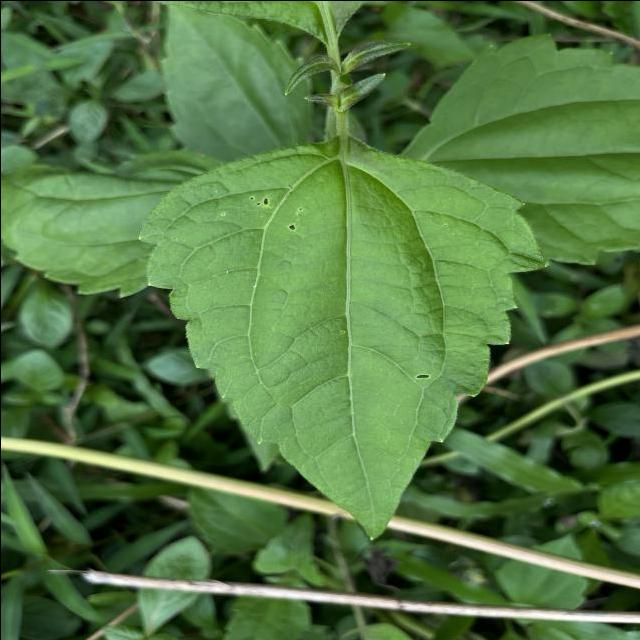Chromolaena odorata: (132, 129, 552, 546)
